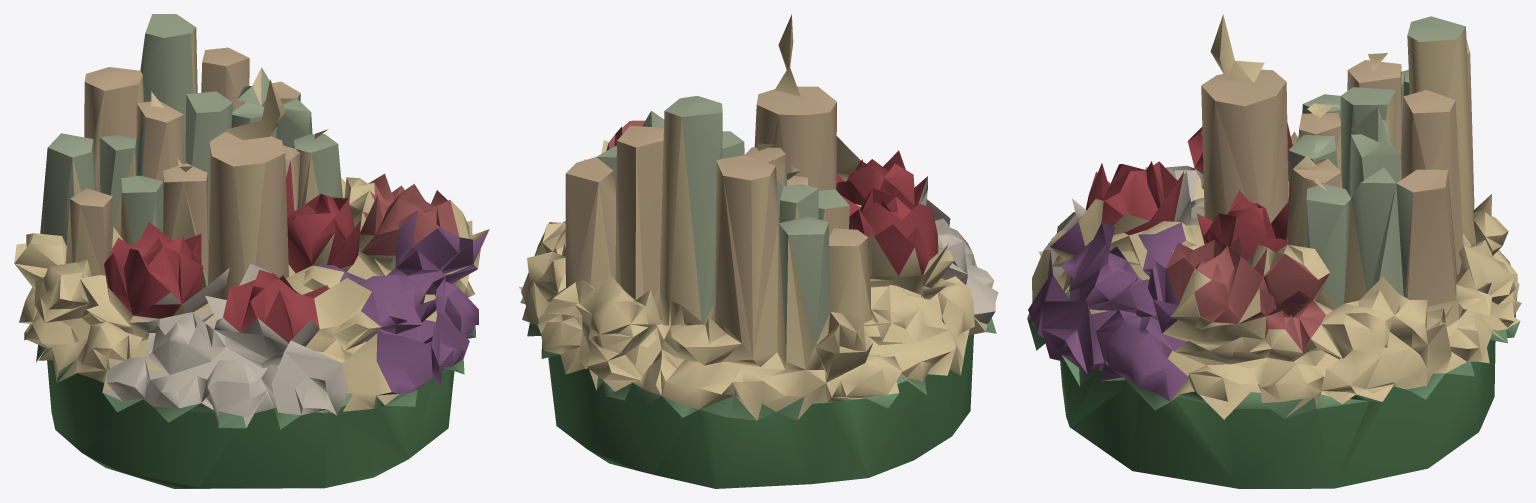
File: rose_candles_01.full.glb
3 renders of one model, left to right at view 1: azimuth 30°, elevation 25°; view 2: azimuth 150°, elevation 25°; view 3: azimuth 270°, elevation 25°, orthographic. The views are drawn at different scales.
Bounding box in the file's own units: 2.14 × 1.89 × 2.15.
